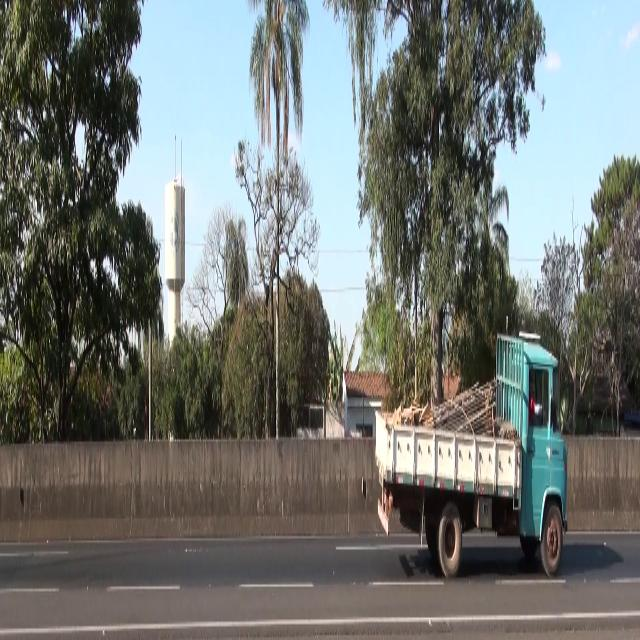-axle: (438, 498, 464, 578), (540, 507, 566, 575)
